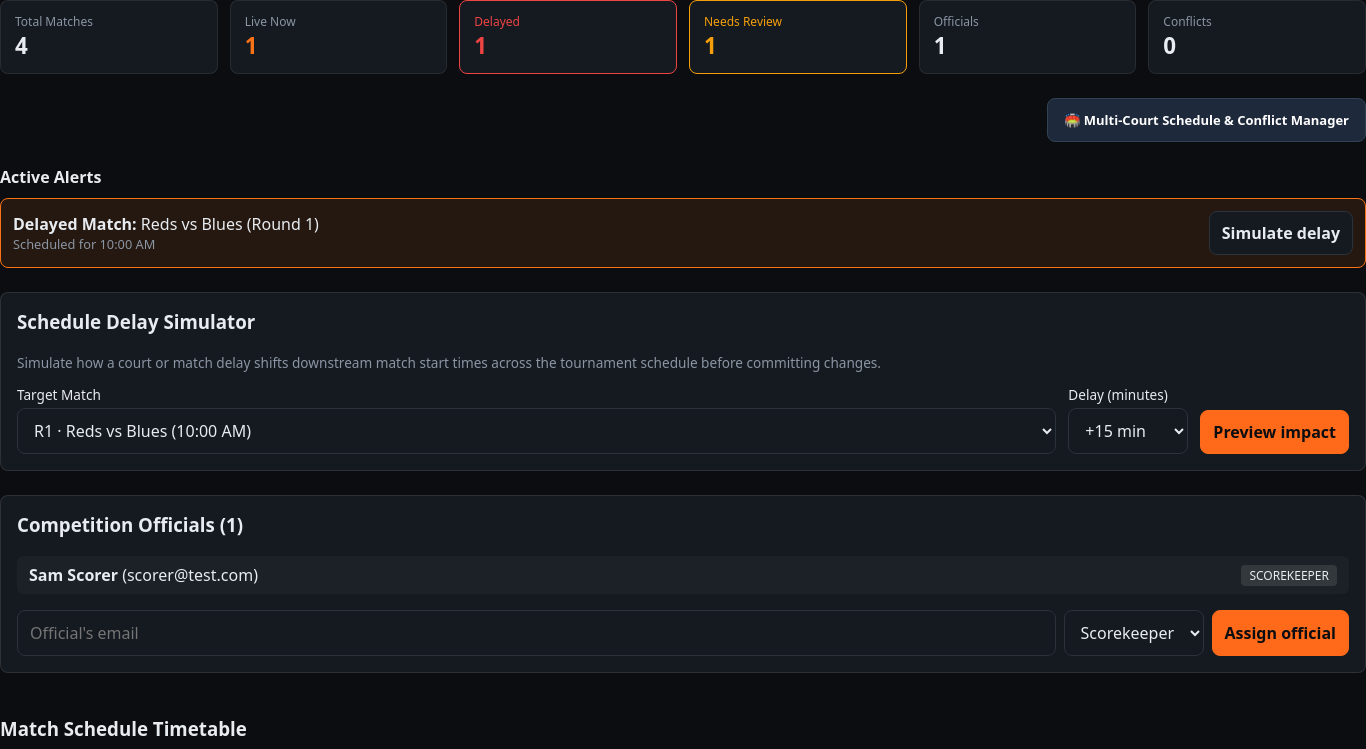
Scenario: CommandCenterPanel › simulates schedule delay and applies it across downstream matches
The width and height of the screenshot is (1366, 749).
Expected: the heading "Schedule Delay Simulator" is shown, left=17, top=309, right=255, bottom=334
Select "R1 · Reds vs Blues (10:00 AM)" in the dropdown named "Target match for delay" at {"x": 537, "y": 431}, box left=17, top=408, right=1056, bottom=454
// Select +15 min delay and preview
Select "+15 min" in the dropdown named "Delay amount in minutes" at {"x": 1128, "y": 431}, box left=1068, top=408, right=1188, bottom=454
Click the button "Preview impact" at {"x": 1275, "y": 432}, box left=1200, top=410, right=1349, bottom=454
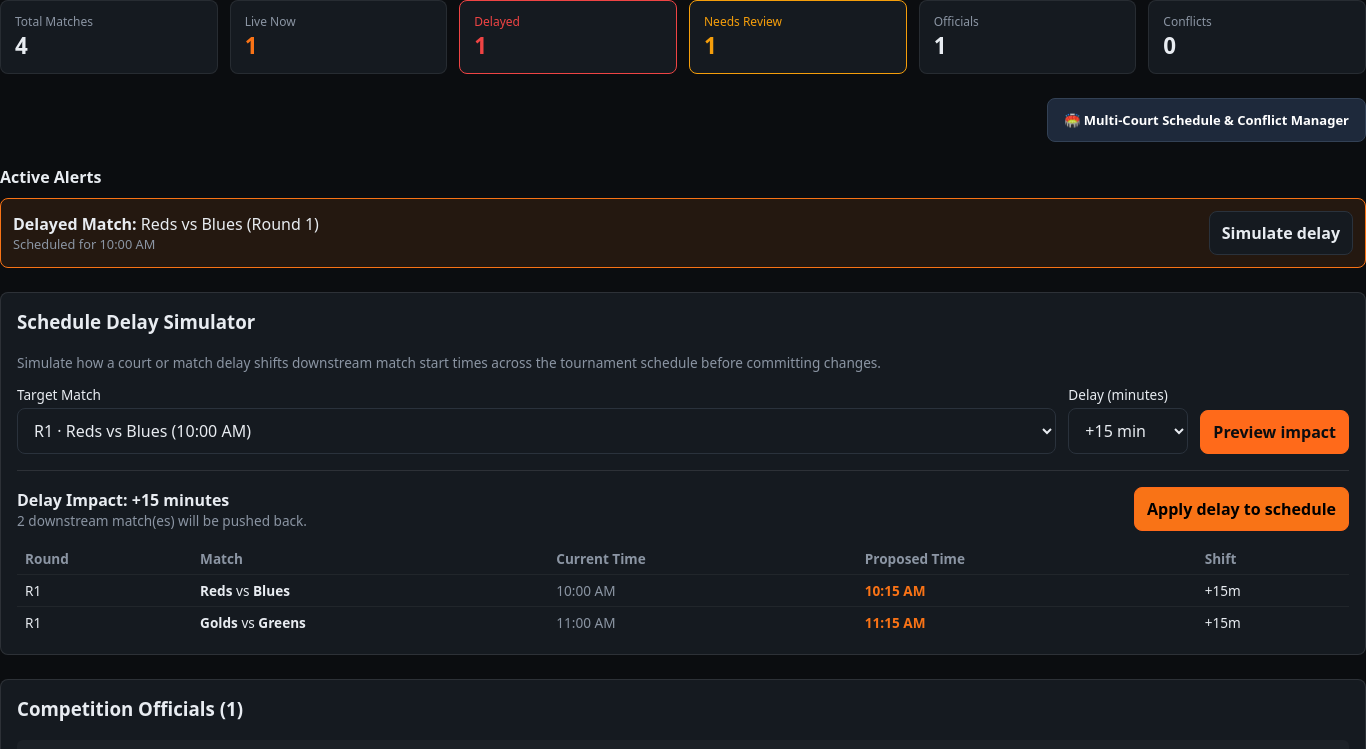
Now the text "Delay Impact: +15 minutes" is shown, box left=17, top=489, right=229, bottom=511
Now the text "2 downstream match(es) will be pushed back." is shown, box left=17, top=511, right=307, bottom=530
Now the text "+15m" is shown 2 times, box left=1197, top=575, right=1349, bottom=607; left=1197, top=607, right=1349, bottom=638
// Apply delay
Click the button "Apply delay to schedule" at {"x": 1242, "y": 509}, box left=1134, top=487, right=1349, bottom=531
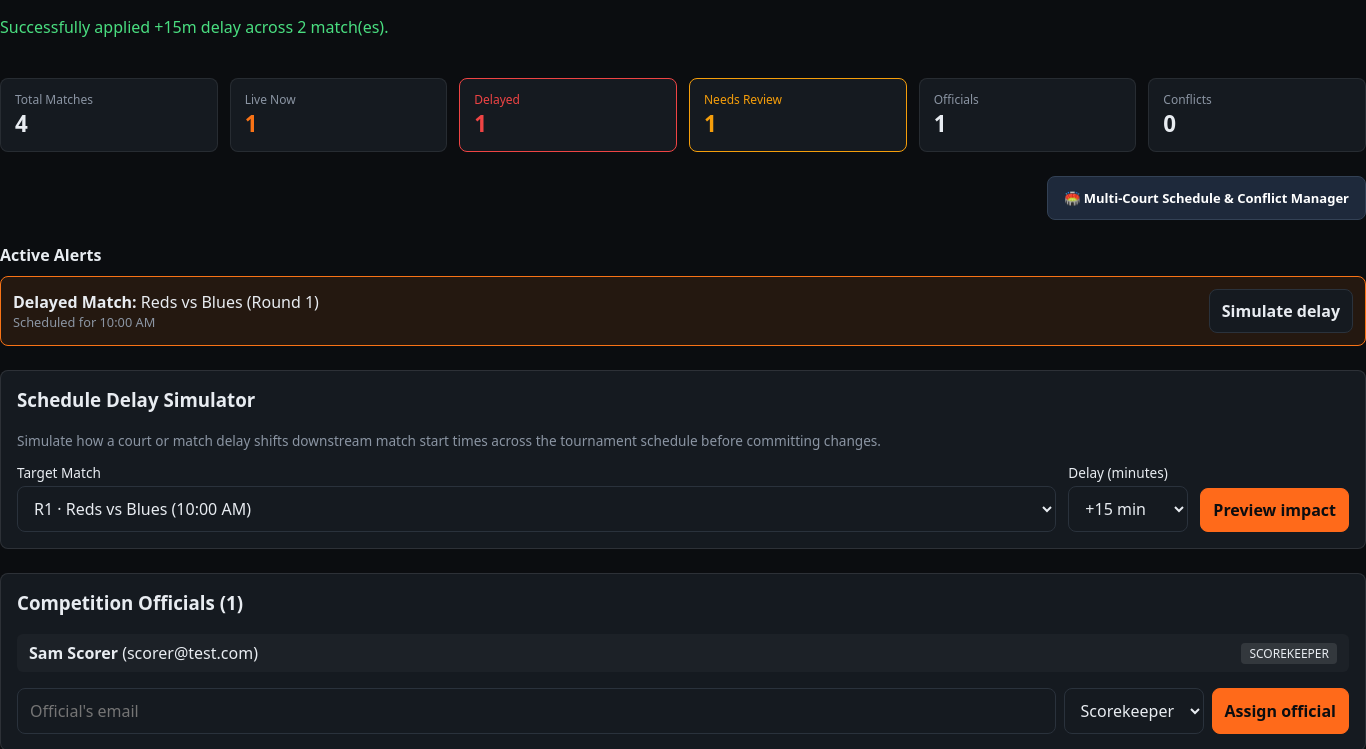
Now the text "Successfully applied +15m delay across 2 match(es)." is shown, box left=0, top=16, right=388, bottom=38
